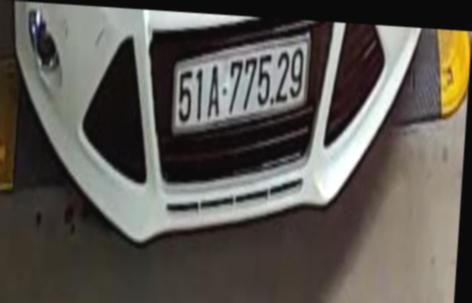License_Plate: (165, 40, 314, 138)
